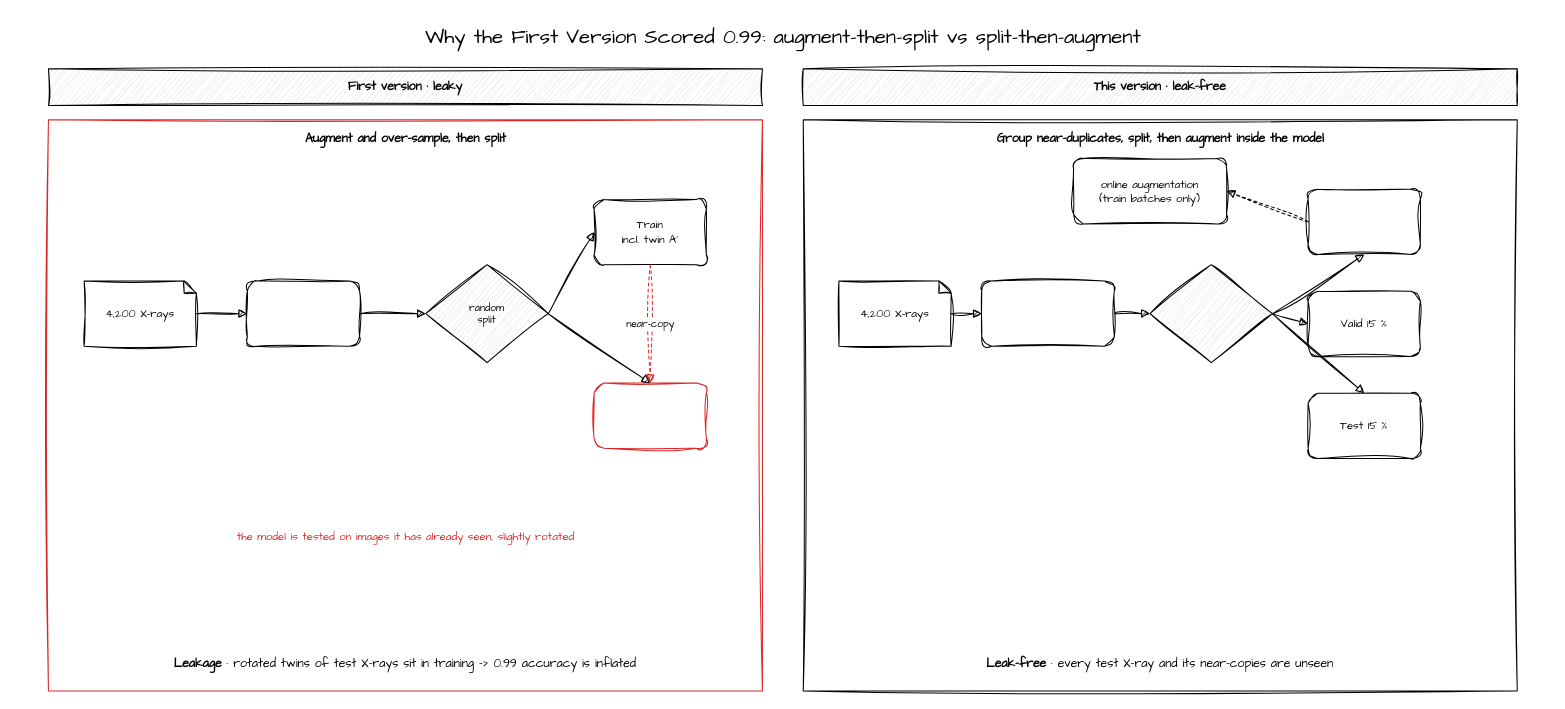
This 1565x709 diagram has some shape labels left out. The shapes that lost their labels are listed below. From the top down, each one's box as (x1, y1, x2, y2) in pixels, then its label:
(1307, 188, 1420, 254): Train 70 %
(246, 280, 360, 346): Rotate / flip / over-sample TB
(981, 280, 1114, 346): Difference hash group near-duplicates
(1149, 264, 1272, 363): group split
(593, 382, 706, 448): Test incl. original A
